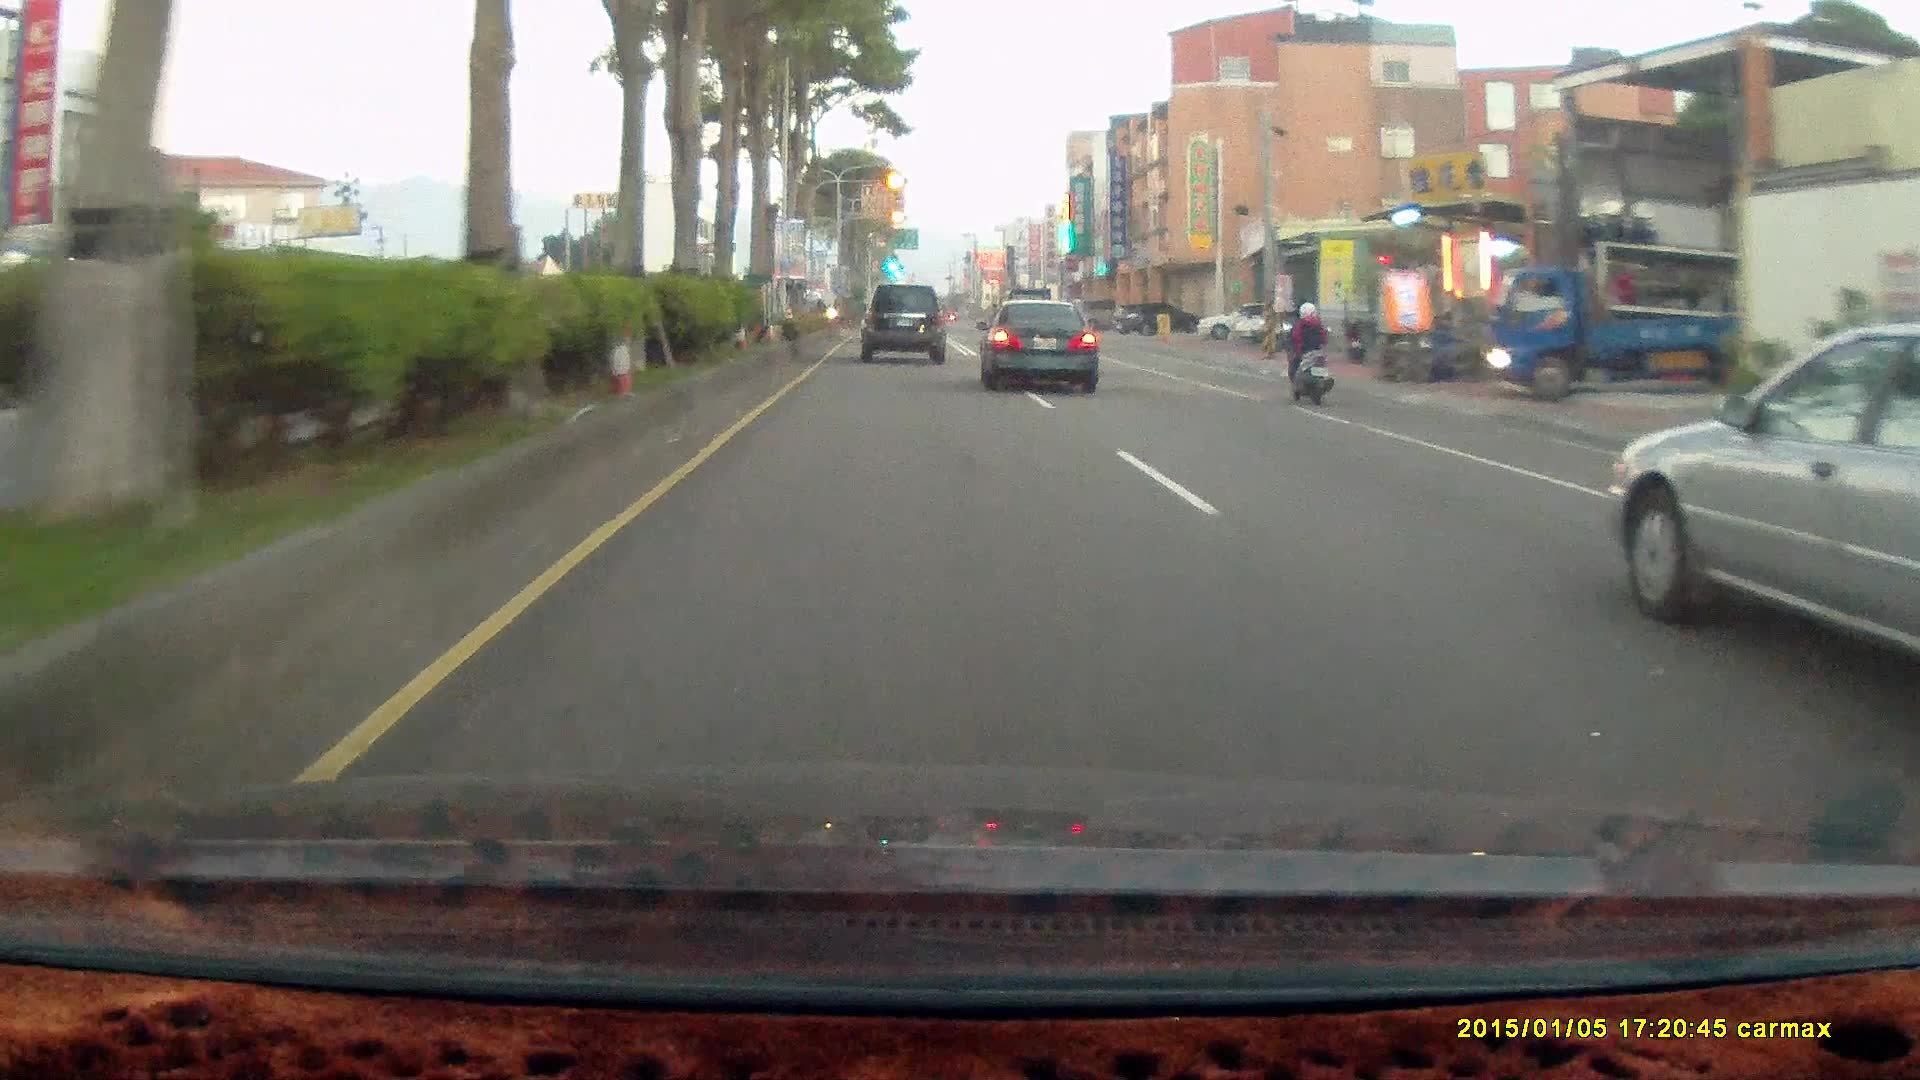rider: (1270, 290, 1348, 418), (1278, 299, 1337, 403)
vehicle: (1611, 316, 1920, 726), (1609, 322, 1920, 707), (1484, 240, 1750, 397), (1481, 268, 1793, 400), (972, 295, 1099, 391), (983, 296, 1105, 393), (860, 281, 952, 365), (859, 282, 946, 364), (1280, 296, 1382, 348), (1198, 300, 1295, 338), (1113, 303, 1197, 336), (1071, 296, 1135, 332)
